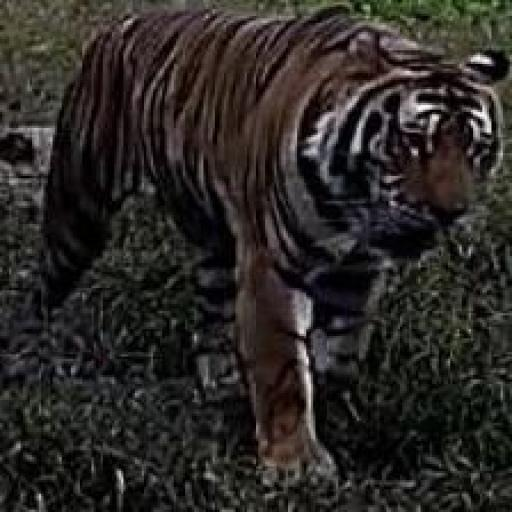Tiger: (28, 16, 508, 511)
